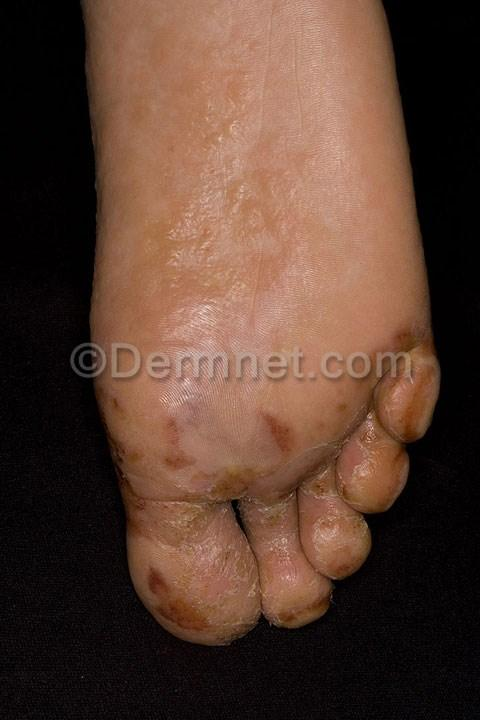Eczema: (239, 366, 340, 468), (143, 533, 227, 634), (139, 391, 199, 471), (370, 286, 427, 364), (279, 557, 329, 615), (366, 457, 403, 510)
